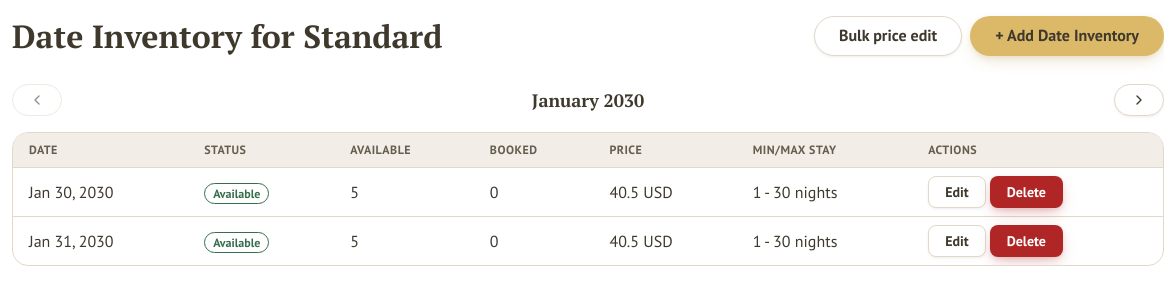
date inventory by month › moves to the next and the previous month
The image size is (1176, 283).
Expected: the text "January 2030" is shown, [532, 86, 644, 114]
Step 1. Click the button named "Next month" → (1139, 100), box [1114, 84, 1164, 116]
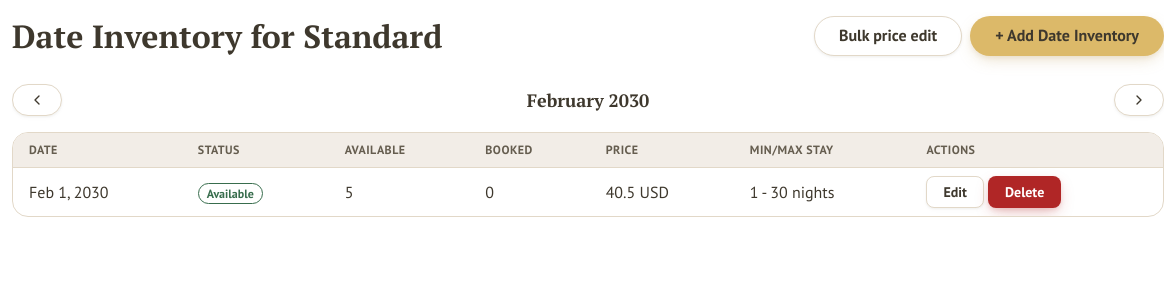
Expected: the text "February 2030" is shown, [527, 86, 649, 114]
Expected: the text "Feb 1, 2030" is shown, [13, 168, 182, 216]
Expected: the text "Jan 31, 2030" is gone
Step 2. Click the button named "Previous month" → (37, 100), box [12, 84, 62, 116]
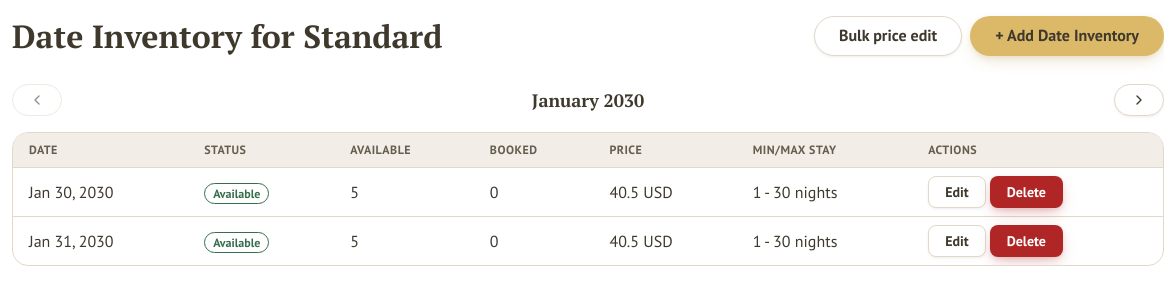
Expected: the text "January 2030" is shown, [532, 86, 644, 114]
